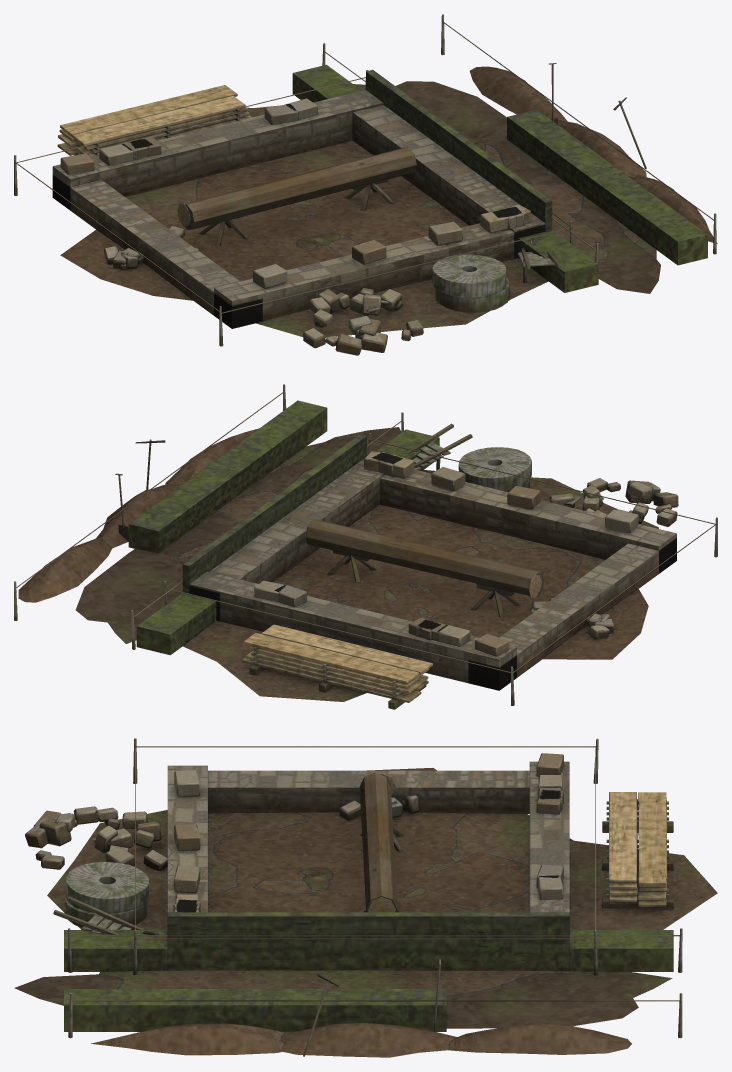
File: mill_build1.glb
3 renders of one model, top to bottom at view 1: azimuth 30°, elevation 25°; view 2: azimuth 150°, elevation 25°; view 3: azimuth 270°, elevation 25°, orthographic. The views are drawn at different scales.
Visible parts, largest first — view 1: mill_build1_LOD0; view 2: mill_build1_LOD0; view 3: mill_build1_LOD0.
Part boxes in pixels (x1,y1,x2,y2): mill_build1_LOD0: (14, 14, 717, 355); mill_build1_LOD0: (14, 384, 717, 709); mill_build1_LOD0: (14, 738, 717, 1057).
Size of what is drawn, in the model's own units: 10.58 by 1.32 by 10.86.
Materials: 1 (1 with a texture image).
